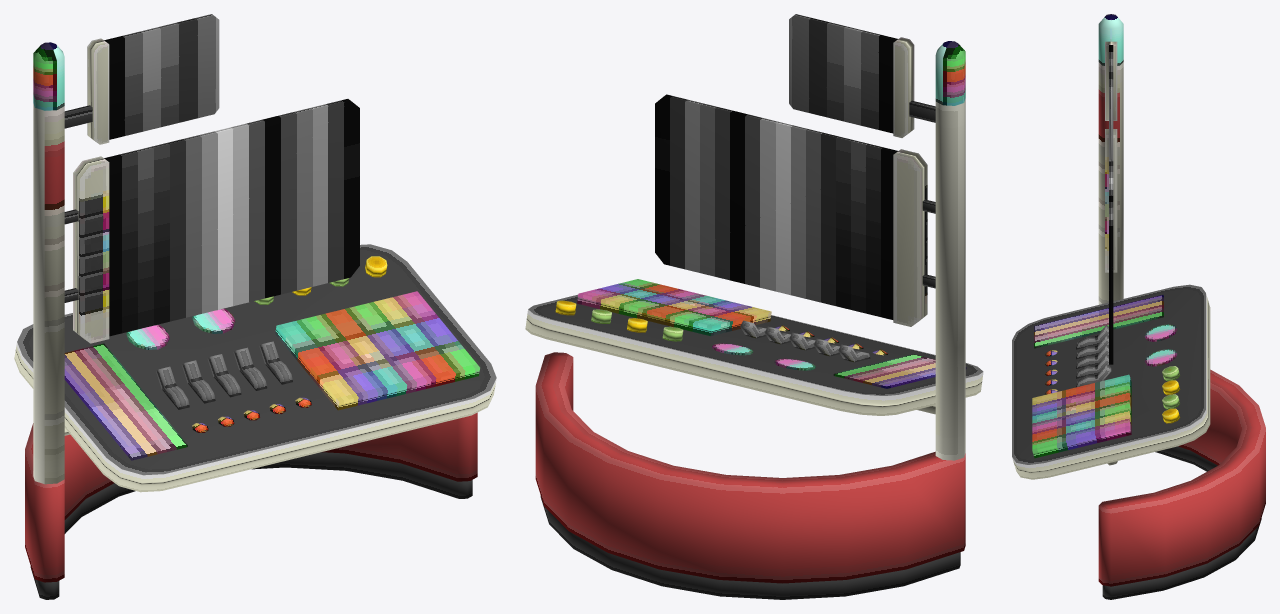
The model's file is int_sff_monitor02.dae.
The picture shows the model from 3 angles, left to right: view 1: azimuth 30°, elevation 25°; view 2: azimuth 150°, elevation 25°; view 3: azimuth 270°, elevation 25°; orthographic projection. The views are drawn at different scales.
Parts seen in each view (by area): view 1: int_sff_monitor02; view 2: int_sff_monitor02; view 3: int_sff_monitor02.
Boxes of the visible parts, x1,y1,x2,y2 form: int_sff_monitor02: (14,14,496,599); int_sff_monitor02: (525,14,983,599); int_sff_monitor02: (1012,14,1265,599).
Size of the model in its own units: 47 by 56.2 by 30.35.
3 materials, 3 textured.
